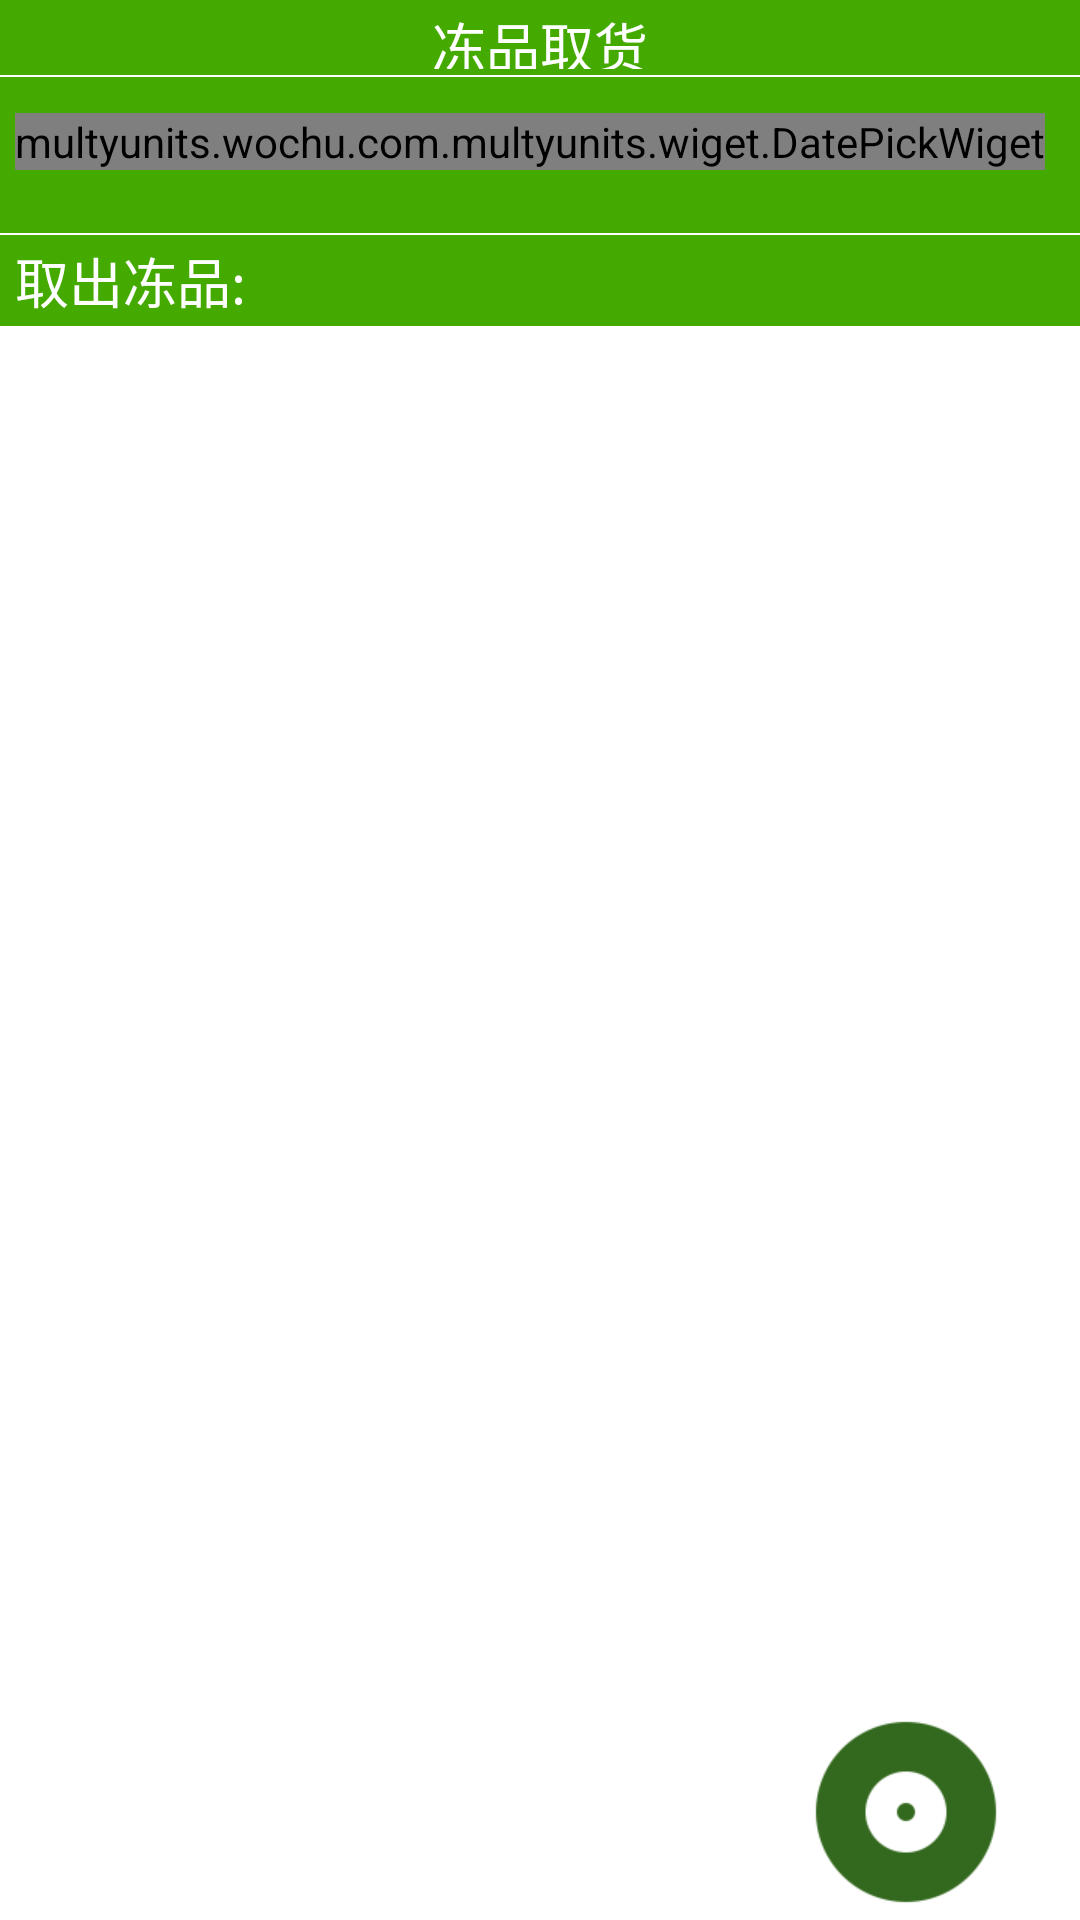

Icons on this 1080x1920 Android screen, each with the point to tap as [x,y]:
record: [906,1812]
